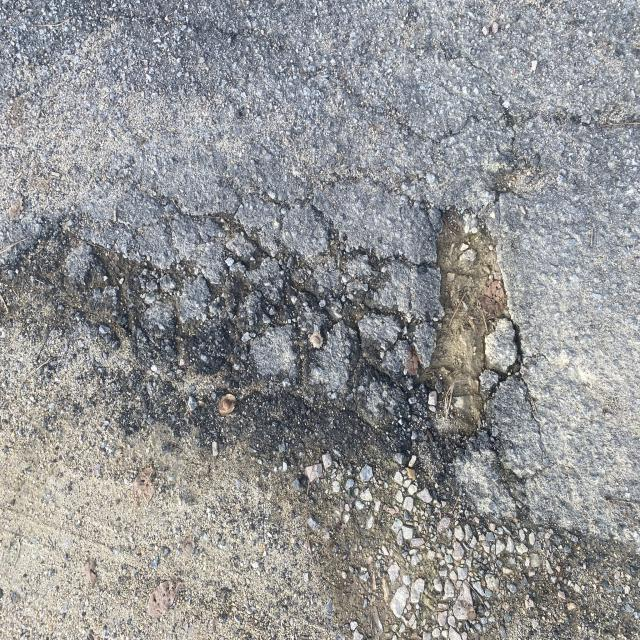pothole: (0, 192, 537, 464)
